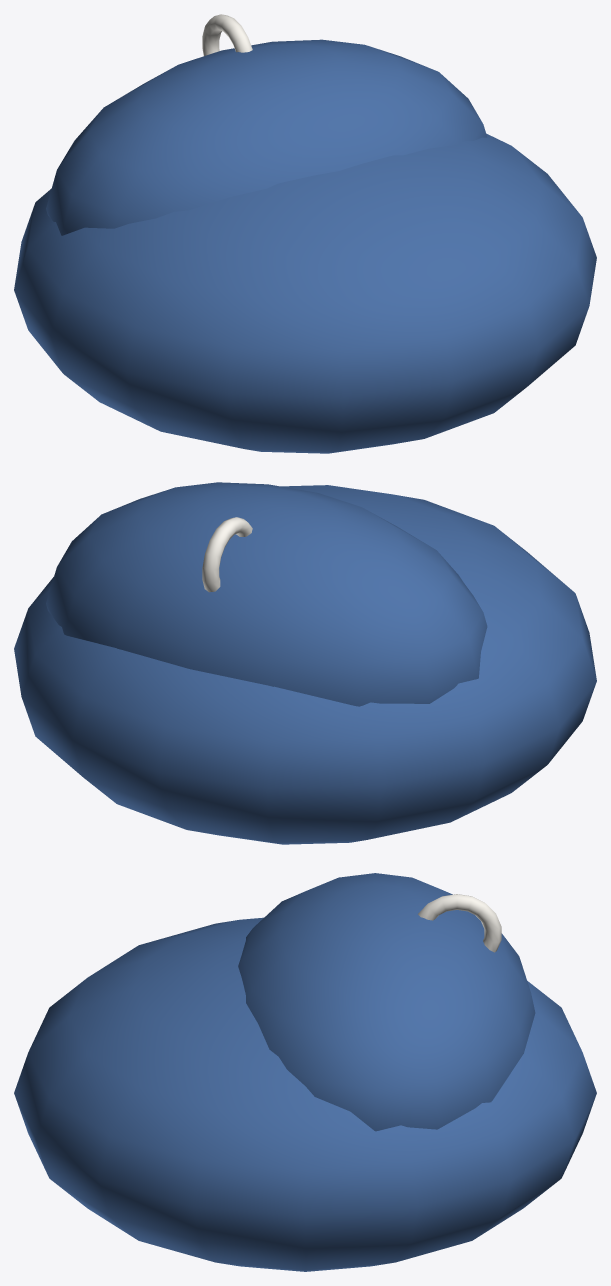
Rendered from hh_cat_bean_bag.glb.
3 renders of one model, top to bottom at view 1: azimuth 30°, elevation 25°; view 2: azimuth 150°, elevation 25°; view 3: azimuth 270°, elevation 25°, orthographic.
Visible parts, largest first — view 1: body, back_hump, handle; view 2: body, back_hump, handle; view 3: body, back_hump, handle.
Boxes of the visible parts, left/top/right/bottom form: body: left=14, top=133, right=596, bottom=453; back_hump: left=46, top=39, right=487, bottom=235; handle: left=202, top=14, right=252, bottom=55; body: left=14, top=485, right=596, bottom=844; back_hump: left=46, top=482, right=487, bottom=706; handle: left=202, top=517, right=252, bottom=592; body: left=14, top=917, right=596, bottom=1271; back_hump: left=238, top=873, right=535, bottom=1131; handle: left=418, top=894, right=501, bottom=952.
Bounding box in the file's own units: 0.8 × 0.5 × 0.8.
